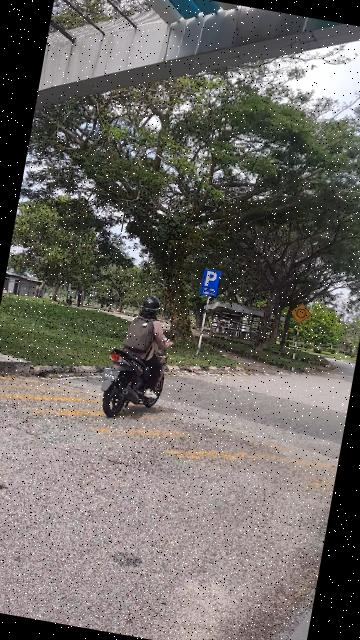motorcycle: (96, 279, 190, 430)
